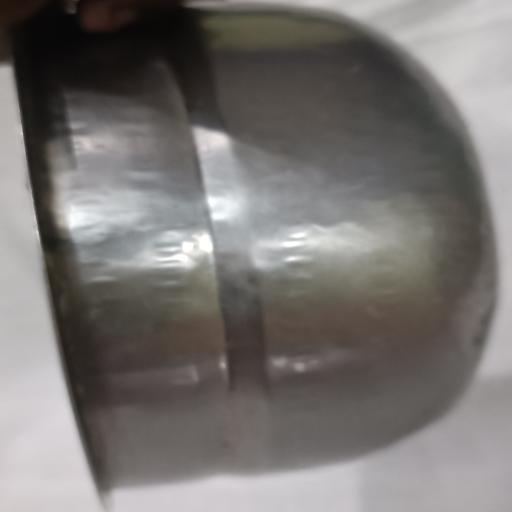vessel: (15, 5, 495, 489)
